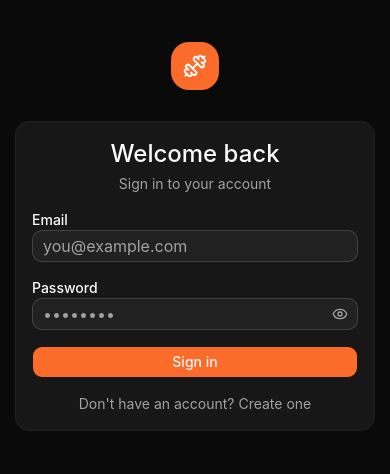
Test: shows rate-limit message on 429
Type "a@b.com" into the field labelled "Email" at (195, 246), box x1=32 y1=230 x2=358 y2=262
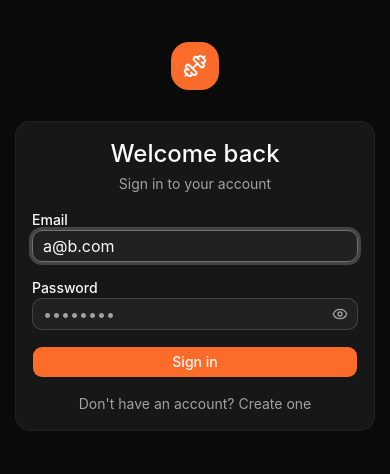
Type "pass" into the password field labelled "Password" at (195, 314), box x1=32 y1=298 x2=358 y2=330
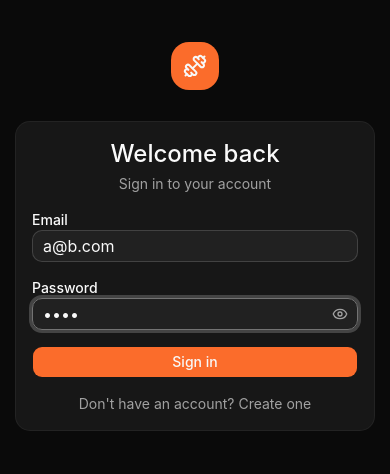
Click the button "Sign in" at (195, 362), box x1=32 y1=346 x2=358 y2=378
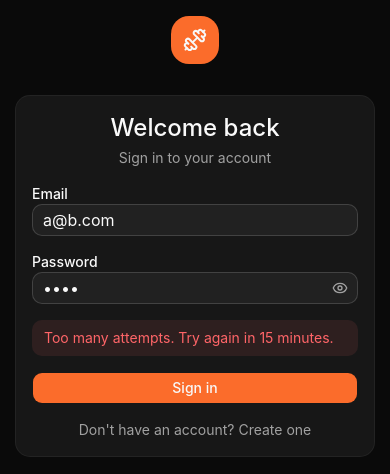
Expected: the text "Too many attempts. Try again in 15 minutes." is shown, x1=32 y1=320 x2=358 y2=356
